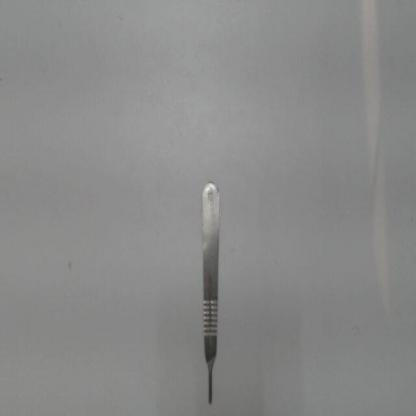No.3 BP Handle: (195, 178, 222, 408)
